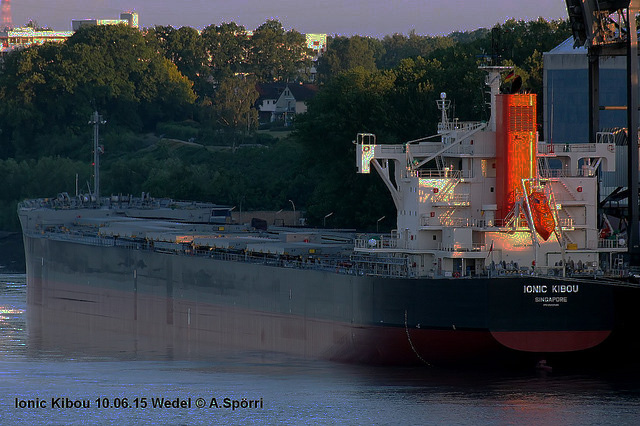bulk carrier: (17, 58, 616, 368)
